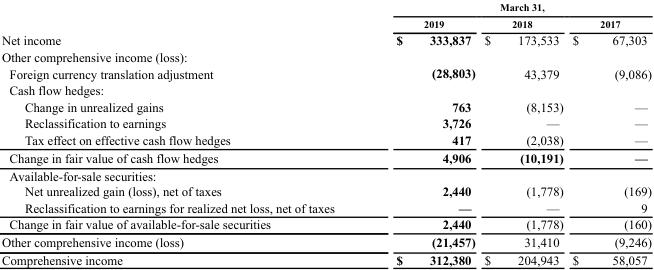table: (0, 1, 650, 266)
table column: (0, 1, 364, 266), (364, 1, 479, 266), (479, 1, 567, 266), (567, 1, 650, 266)
table column header: (0, 1, 650, 31)
table projected row header: (0, 81, 650, 98), (0, 166, 650, 183), (0, 48, 650, 64)
table row: (0, 148, 650, 166), (0, 232, 650, 250), (0, 31, 650, 48), (0, 64, 650, 81), (0, 81, 650, 98), (0, 114, 650, 131), (0, 131, 650, 148), (0, 166, 650, 183), (0, 215, 650, 232), (0, 15, 650, 31), (0, 48, 650, 64), (0, 98, 650, 114), (0, 183, 650, 199), (0, 199, 650, 215), (0, 250, 650, 266), (0, 1, 650, 15)
table spanning cell: (364, 1, 650, 15)
